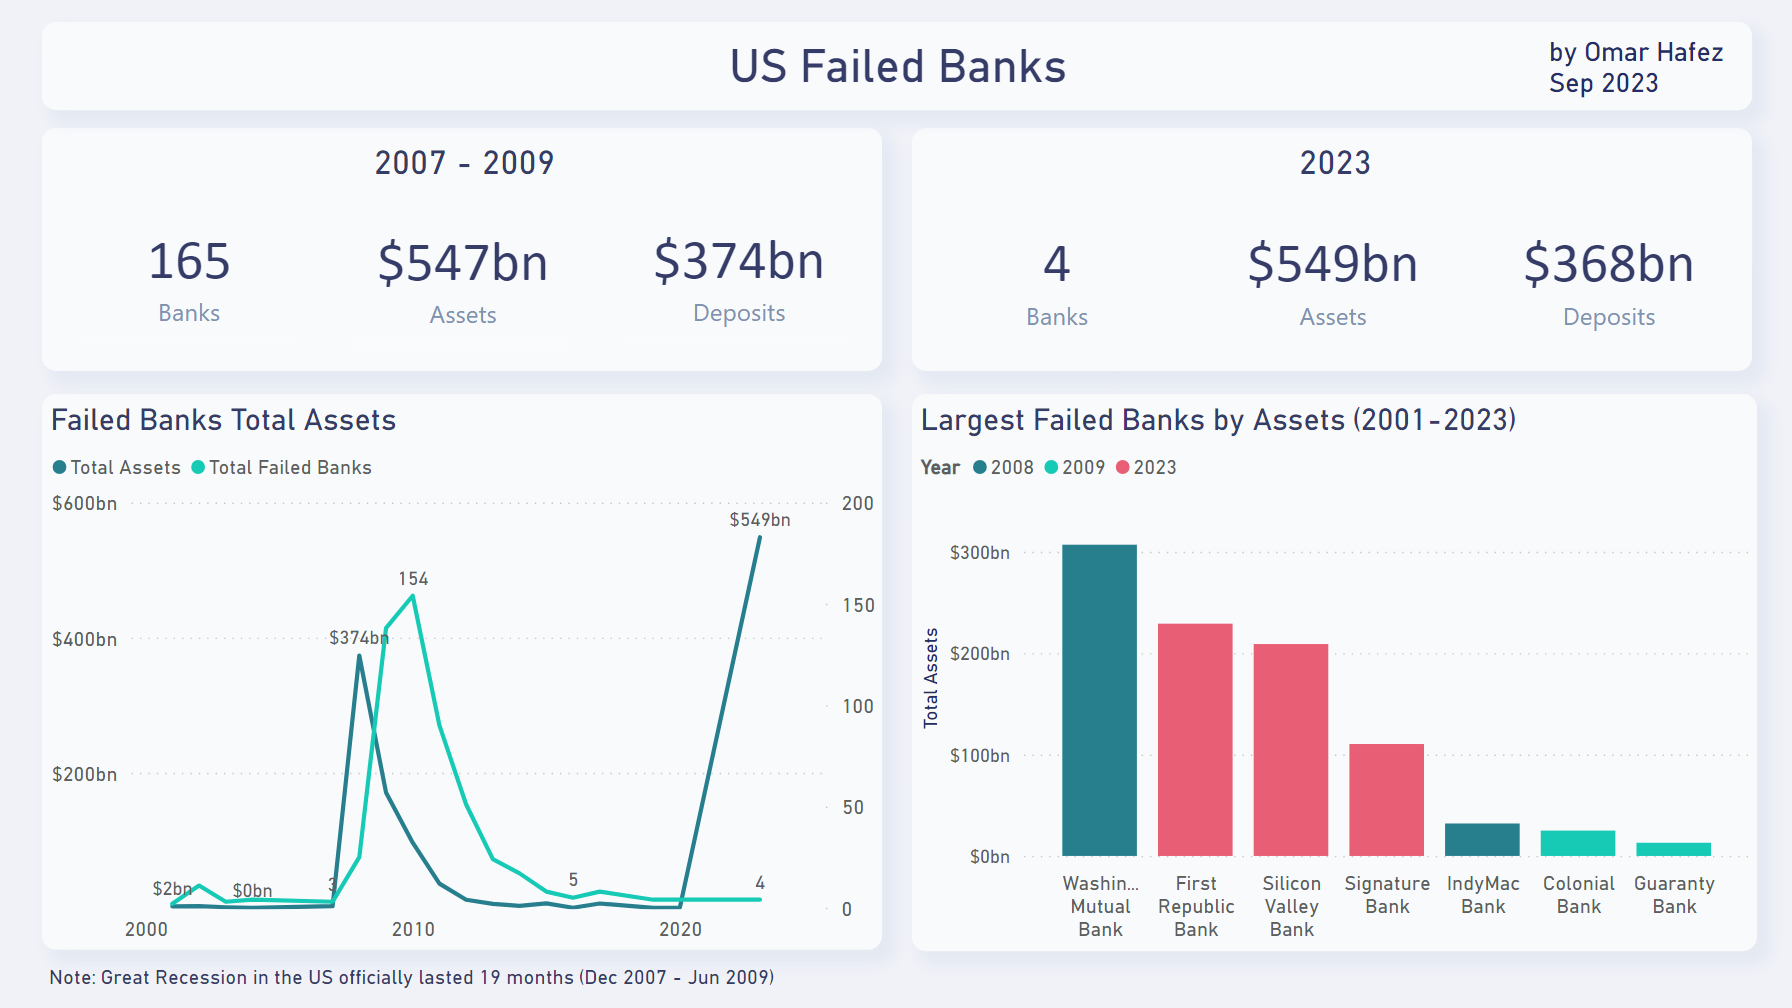

The page's visual inventory and layout, read from the dashboard file:
{"tool":"powerbi","page":{"name":"US Failed Banks","canvas":[1280,720],"ordinal":0},"visuals":[{"type":"shape","box":[30,91.4,600,173.6],"z":0,"group":"g2"},{"type":"shape","box":[651.4,91.4,600,173.3],"z":0,"group":"g1"},{"type":"lineChart","title":"Failed Banks Total Assets","fields":{"Category":["Date Table.Year"],"Y":["Sum(BankFailures.Approx. Asset)"],"Y2":["Count(BankFailures.Bank Name)"]},"box":[30,281.4,600,397.1],"z":0},{"type":"textbox","title":"Title","box":[30,15.7,1221.4,62.9],"z":1000,"group":"g3"},{"type":"group","id":"g1","title":"Group 1","box":[651.4,91.4,600,174.3],"z":1000},{"type":"textbox","box":[221.6,93.1,218.5,45.1],"z":1000,"group":"g2"},{"type":"textbox","box":[853.6,93.1,197.2,45],"z":1000,"group":"g1"},{"type":"group","id":"g2","title":"Group 2","box":[30,91.4,600,174.3],"z":2000},{"type":"card","title":"Assets","fields":{"Values":["Sum(BankFailures.Approx. Asset (Millions))"]},"box":[242.9,143,174.2,103.2],"z":2000,"group":"g2"},{"type":"card","title":"Assets","fields":{"Values":["Sum(BankFailures.Approx. Asset (Millions))"]},"box":[864.3,144.1,174.2,102.3],"z":2000,"group":"g1"},{"type":"card","title":"Banks","fields":{"Values":["Count(BankFailures.Bank Name)"]},"box":[47.7,141.5,174.2,103.2],"z":3000,"group":"g2"},{"type":"card","title":"Banks","fields":{"Values":["Count(BankFailures.Bank Name)"]},"box":[667.5,144.1,174.2,102.3],"z":3000,"group":"g1"},{"type":"columnChart","title":"Largest Failed Banks by Assets (2001-2023)","fields":{"Category":["BankFailures.Bank Name"],"Y":["Sum(BankFailures.Approx. Asset)"],"Series":["Date Table.Year"]},"box":[651.1,281.1,603.3,397.8],"z":3000},{"type":"group","id":"g3","title":"Group 3","box":[30,15.7,1221.4,63.3],"z":4000},{"type":"card","title":"Deposits","fields":{"Values":["Sum(BankFailures.Approx. Deposit (Millions))"]},"box":[439.7,141.5,174.2,103.2],"z":4000,"group":"g2"},{"type":"card","title":"Deposits","fields":{"Values":["Sum(BankFailures.Approx. Deposit (Millions))"]},"box":[1061.1,144.1,174.2,102.3],"z":4000,"group":"g1"},{"type":"textbox","box":[1101,16,150,63],"z":4001,"group":"g3"},{"type":"textbox","box":[30,678.6,657.1,41.4],"z":5000}]}

Visuals, with their boxes in screenshot pixels (x1, y1, x2, y2), scaled from the page's 1280x720 canvas onto the 1792x1008 screenshot:
shape: <box>42,128,882,371</box>
shape: <box>912,128,1752,371</box>
"Failed Banks Total Assets" lineChart: <box>42,394,882,950</box>
"Title" textbox: <box>42,22,1752,110</box>
"Group 1" group: <box>912,128,1752,372</box>
textbox: <box>310,130,616,193</box>
textbox: <box>1195,130,1471,193</box>
"Group 2" group: <box>42,128,882,372</box>
"Assets" card: <box>340,200,584,345</box>
"Assets" card: <box>1210,202,1454,345</box>
"Banks" card: <box>67,198,311,343</box>
"Banks" card: <box>934,202,1178,345</box>
"Largest Failed Banks by Assets (2001-2023)" columnChart: <box>912,394,1756,950</box>
"Group 3" group: <box>42,22,1752,111</box>
"Deposits" card: <box>616,198,859,343</box>
"Deposits" card: <box>1486,202,1729,345</box>
textbox: <box>1541,22,1751,111</box>
textbox: <box>42,950,962,1007</box>
